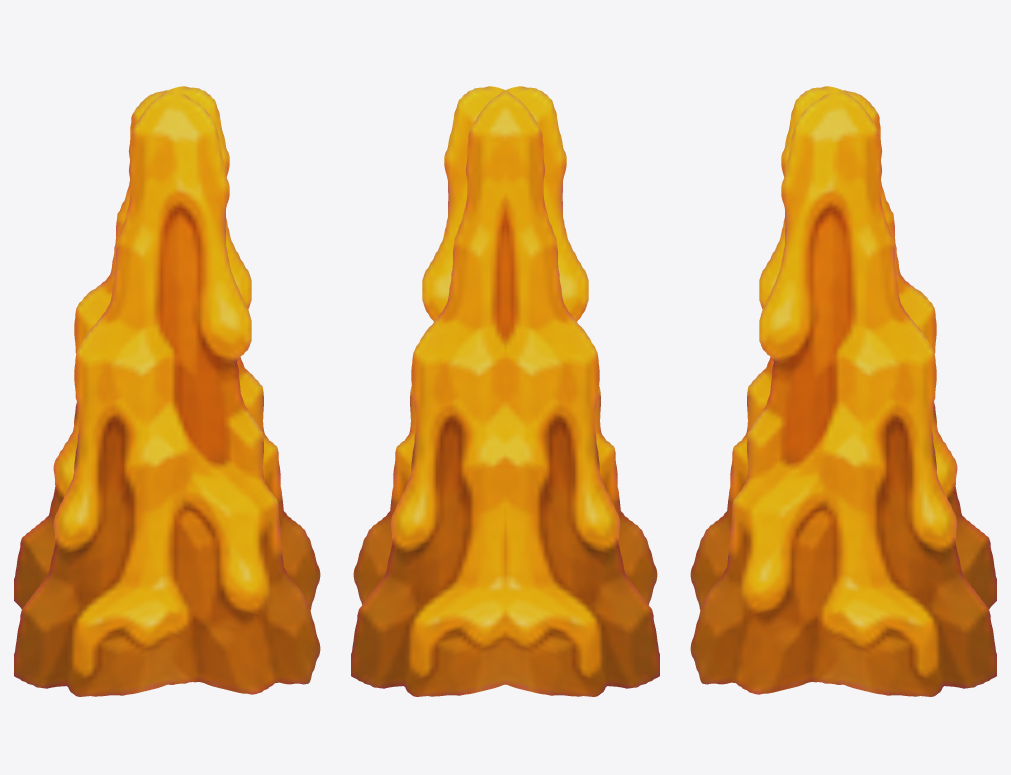
The model's file is h_ruche_touffe.glb.
3 renders of one model, left to right at view 1: azimuth 30°, elevation 25°; view 2: azimuth 150°, elevation 25°; view 3: azimuth 270°, elevation 25°, orthographic.
Visible parts, largest first — view 1: h_ruche_touffe; view 2: h_ruche_touffe; view 3: h_ruche_touffe.
Part boxes in pixels (left/top/right/bottom): h_ruche_touffe: left=14, top=86, right=320, bottom=696; h_ruche_touffe: left=351, top=86, right=659, bottom=696; h_ruche_touffe: left=690, top=86, right=996, bottom=696.
Size of the model in its own units: 0.1733 by 0.32 by 0.1501.
1 material, 1 textured.
